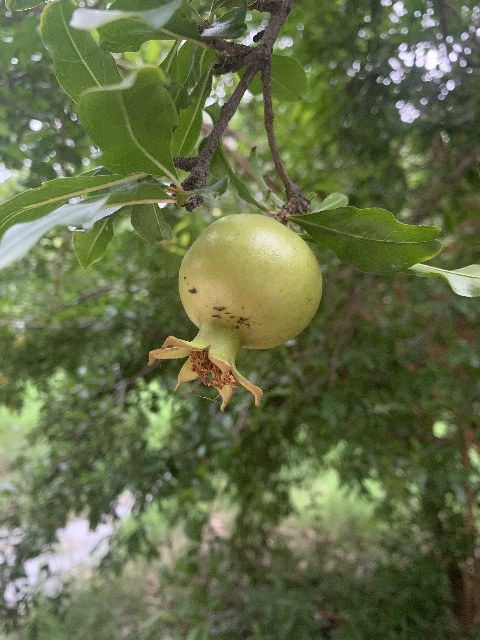mid-growth: (146, 213, 323, 413)
